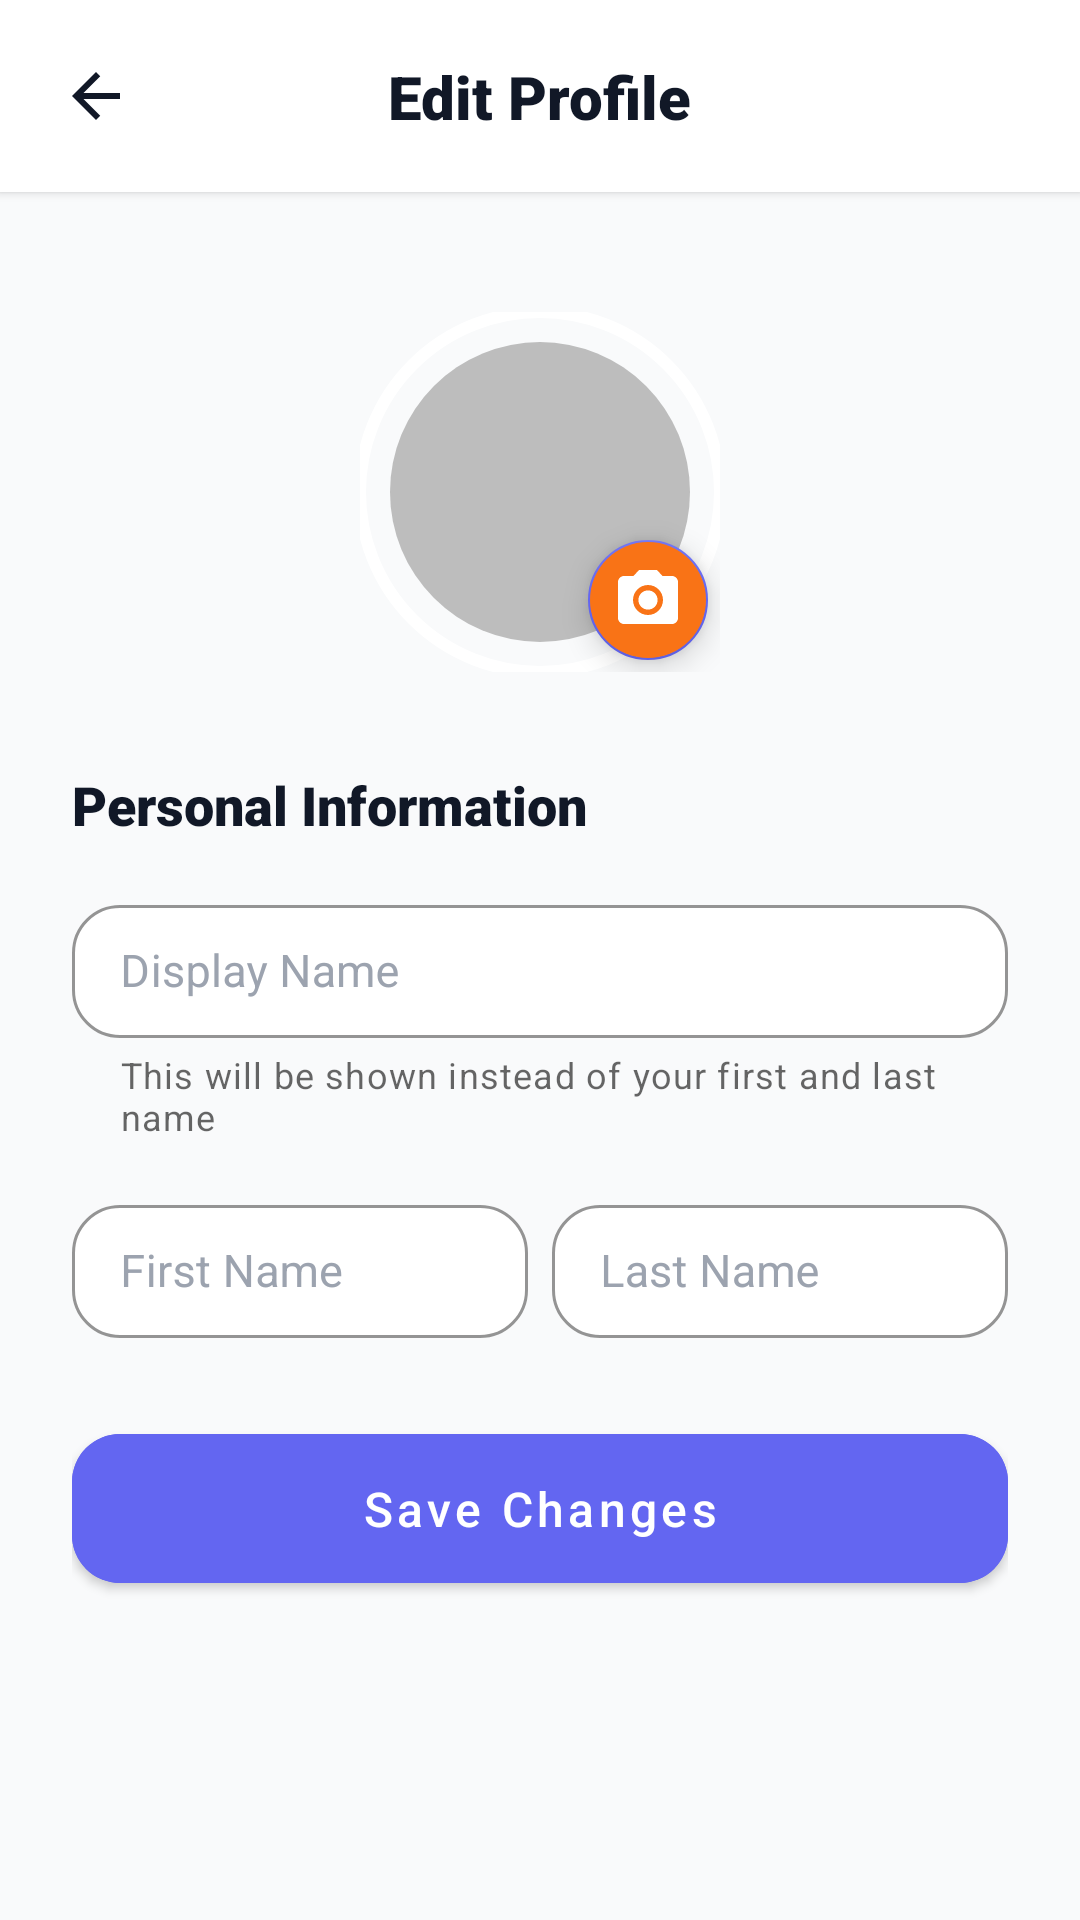

Screen size 1080x1920. Icon name, then its center in pixels as [x,y]:
arrow back: [96,96]
camera: [642,596]
